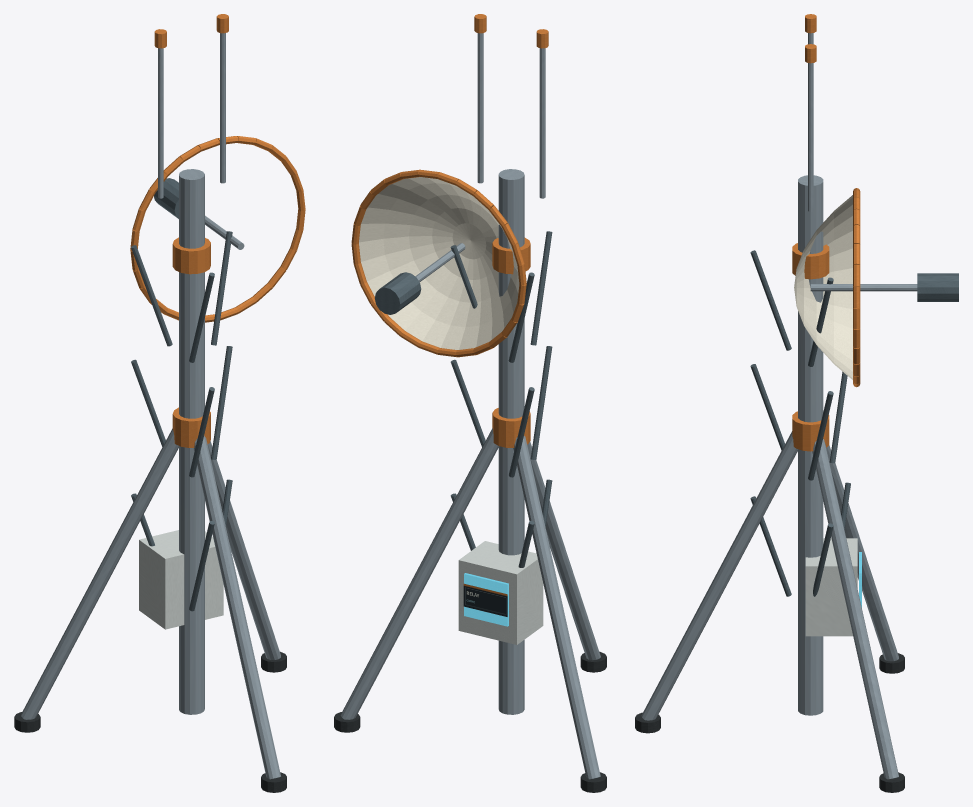
File: comms_antenna.glb
3 renders of one model, left to right at view 1: azimuth 30°, elevation 25°; view 2: azimuth 150°, elevation 25°; view 3: azimuth 270°, elevation 25°, orthographic.
Parts seen in each view (by area): view 1: tripod_legs_steel, centre_mast_steel, weatherproof_comms_box_ceramic, lattice_braces_metal_dark, dish_rim_orange, mast_collars_orange, upper_antenna_steel, tripod_feet_rubber, dish_feed_metal_dark; view 2: dish_reflector_chalk, tripod_legs_steel, centre_mast_steel, weatherproof_comms_box_ceramic, lattice_braces_metal_dark, dish_rim_orange, upper_antenna_steel, mast_collars_orange, dish_feed_metal_dark, tripod_feet_rubber, comms_label_LABEL_RELAY, status_panel_screen; view 3: tripod_legs_steel, centre_mast_steel, dish_reflector_chalk, lattice_braces_metal_dark, weatherproof_comms_box_ceramic, mast_collars_orange, dish_rim_orange, dish_feed_metal_dark, tripod_feet_rubber, upper_antenna_steel, feed_support_steel.
Part boxes in pixels (bbox=[...]): tripod_legs_steel: bbox=[21, 428, 280, 779]; centre_mast_steel: bbox=[179, 169, 204, 714]; weatherproof_comms_box_ceramic: bbox=[139, 530, 223, 629]; lattice_braces_metal_dark: bbox=[131, 231, 232, 611]; dish_rim_orange: bbox=[130, 136, 305, 322]; mast_collars_orange: bbox=[172, 237, 210, 447]; upper_antenna_steel: bbox=[158, 33, 225, 198]; tripod_feet_rubber: bbox=[14, 651, 286, 792]; dish_feed_metal_dark: bbox=[154, 178, 178, 218]; dish_reflector_chalk: bbox=[359, 177, 519, 349]; tripod_legs_steel: bbox=[340, 428, 600, 779]; centre_mast_steel: bbox=[498, 169, 524, 714]; weatherproof_comms_box_ceramic: bbox=[458, 541, 543, 644]; lattice_braces_metal_dark: bbox=[450, 231, 552, 567]; dish_rim_orange: bbox=[351, 169, 526, 357]; upper_antenna_steel: bbox=[477, 33, 545, 198]; mast_collars_orange: bbox=[492, 237, 530, 447]; dish_feed_metal_dark: bbox=[374, 272, 421, 314]; tripod_feet_rubber: bbox=[334, 651, 606, 792]; comms_label_LABEL_RELAY: bbox=[463, 583, 507, 616]; status_panel_screen: bbox=[464, 573, 508, 626]; tripod_legs_steel: bbox=[641, 431, 898, 779]; centre_mast_steel: bbox=[798, 175, 823, 715]; dish_reflector_chalk: bbox=[794, 195, 852, 379]; lattice_braces_metal_dark: bbox=[750, 250, 850, 596]; weatherproof_comms_box_ceramic: bbox=[805, 538, 857, 636]; mast_collars_orange: bbox=[792, 243, 829, 451]; dish_rim_orange: bbox=[853, 188, 860, 387]; dish_feed_metal_dark: bbox=[917, 273, 958, 301]; tripod_feet_rubber: bbox=[635, 653, 904, 792]; upper_antenna_steel: bbox=[808, 33, 813, 211]; feed_support_steel: bbox=[810, 284, 917, 291].
Bounding box in the file's own units: 1.49 × 3.68 × 1.55.
Materials: 8 (8 with a texture image).
